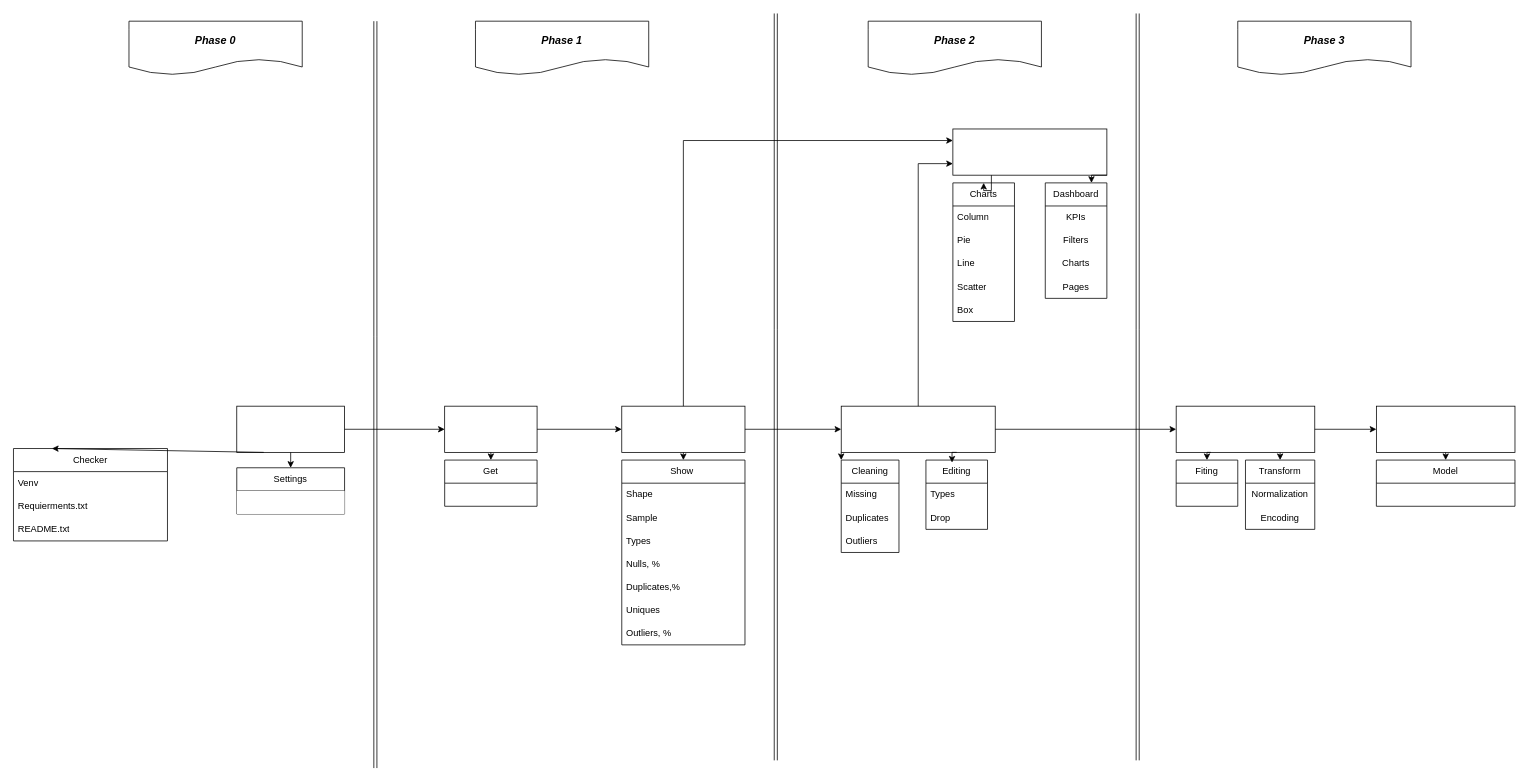
The diagram is 1528 pixels wide and 782 high, and some of its shapes have lost their labels. The shapes that lost their labels are listed below. From the top down, each one's centre as x and y in pixels, then its label:
At (1029,151): "Visualization".
At (290,428): "Pipeline Manager".
At (490,428): "Data Loading".
At (683,428): "Data Overview".
At (917,428): "Data Handling".
At (1245,428): "Data Transform".
At (1445,428): "Modeling".
At (290,502): "Menu".
At (490,494): "flat (csv, xlsx)".
At (1206,494): "something".
At (1445,494): "Linear Regressin".
